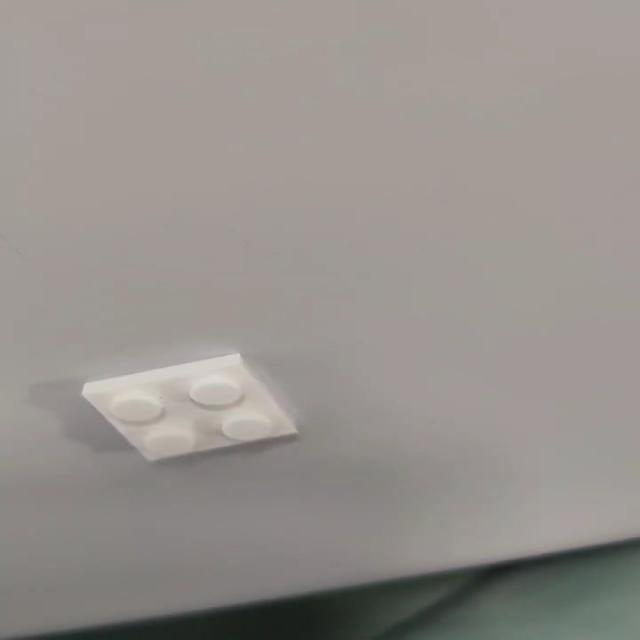C2x2x0: (82, 350, 303, 463)
